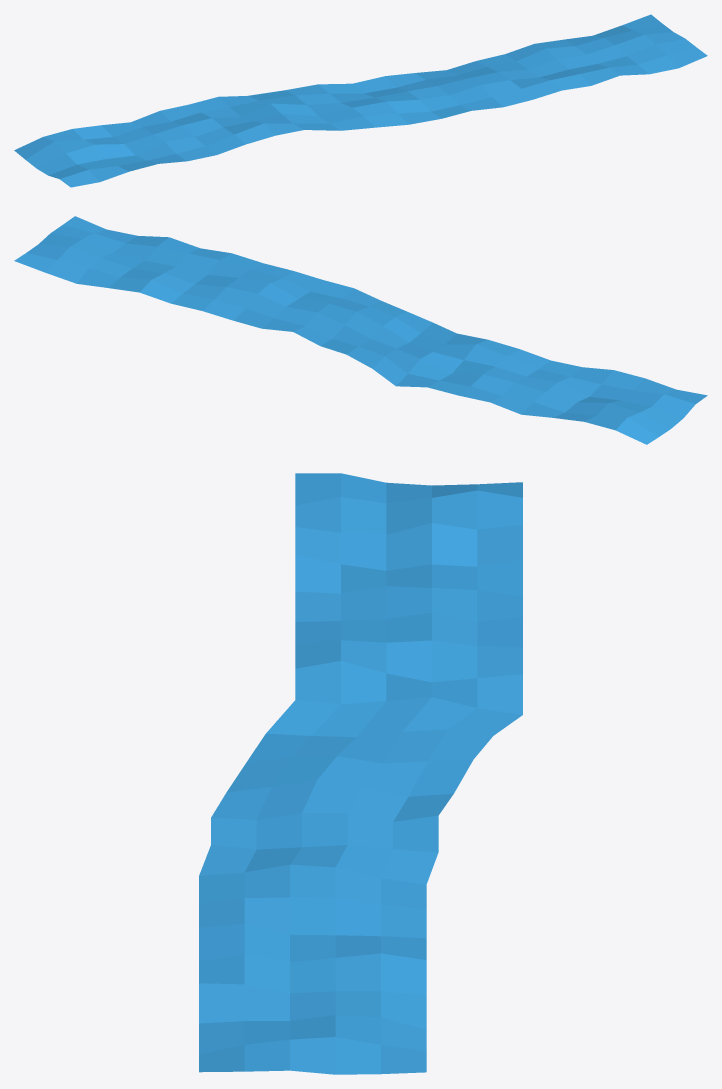
The model's file is Vatten.fbx.
3 renders of one model, top to bottom at view 1: azimuth 30°, elevation 25°; view 2: azimuth 150°, elevation 25°; view 3: azimuth 270°, elevation 25°, orthographic. The views are drawn at different scales.
Visible parts, largest first — view 1: Plane; view 2: Plane; view 3: Plane.
Boxes of the visible parts, left/top/right/bottom form: Plane: left=14, top=14, right=707, bottom=187; Plane: left=14, top=216, right=707, bottom=444; Plane: left=199, top=473, right=522, bottom=1074.
Bounding box in the file's own units: 229 × 4.79 × 52.3.
